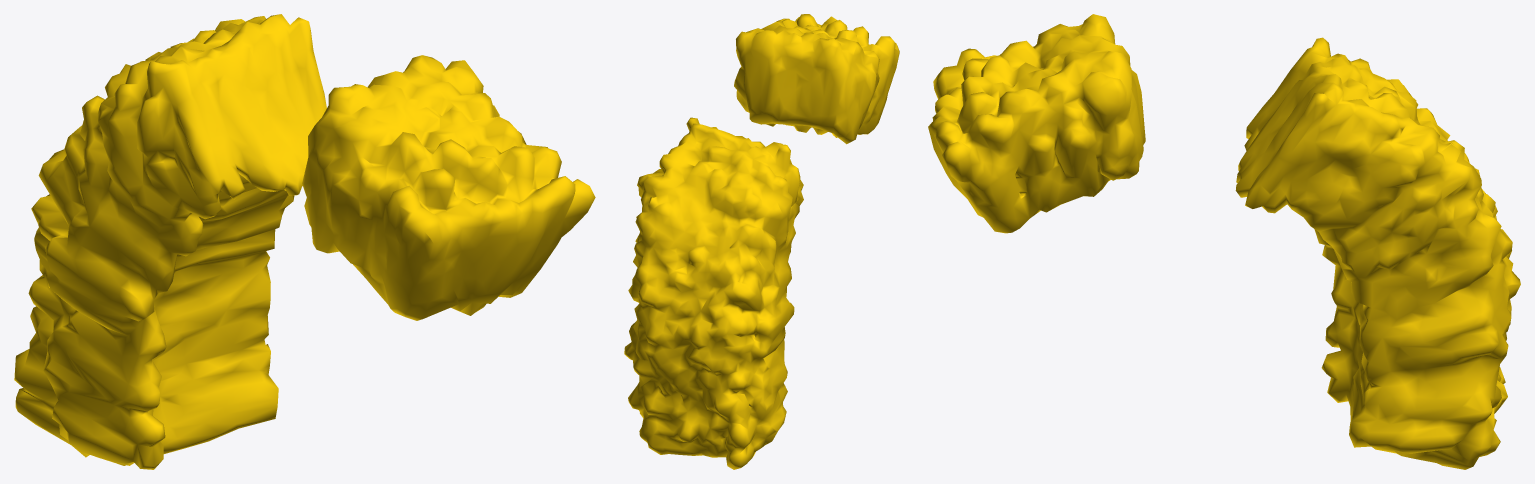
File: mohawk yellow.glb
3 views of the same model, side by side, from view 1: azimuth 30°, elevation 25°; view 2: azimuth 150°, elevation 25°; view 3: azimuth 270°, elevation 25° (orthographic). The views are drawn at different scales.
Visible parts, largest first — view 1: hair_short_mohawk_yellow.001; view 2: hair_short_mohawk_yellow.001; view 3: hair_short_mohawk_yellow.001.
Boxes of the visible parts, x1,y1,x2,y2 form: hair_short_mohawk_yellow.001: (14,14,595,469); hair_short_mohawk_yellow.001: (624,14,899,469); hair_short_mohawk_yellow.001: (928,14,1520,469).
Size of the model in its own units: 0.1859 by 0.3258 by 0.4077.
Materials: 1 (1 with a texture image).
